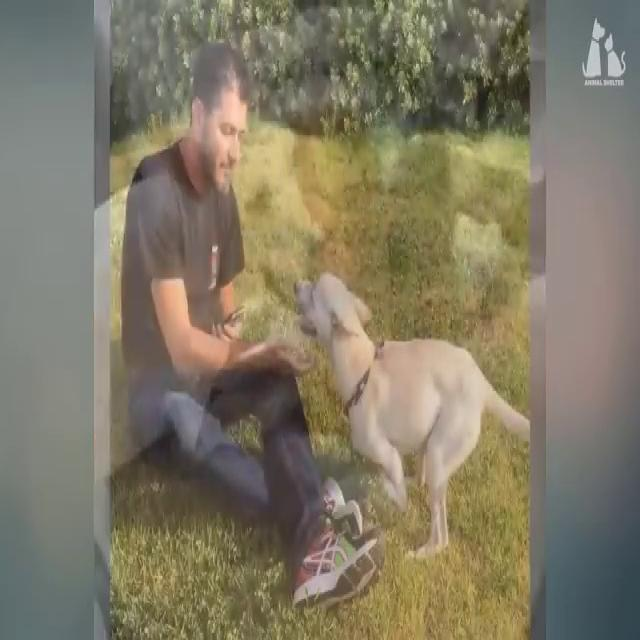normal_animals: (291, 263, 530, 562)
